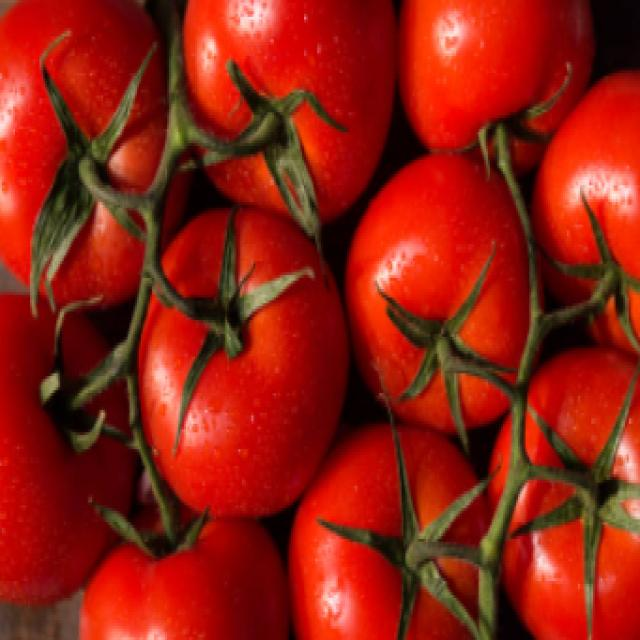Tomato: (133, 179, 335, 506), (349, 146, 541, 441), (479, 331, 640, 640), (178, 4, 387, 211), (290, 418, 484, 640)
